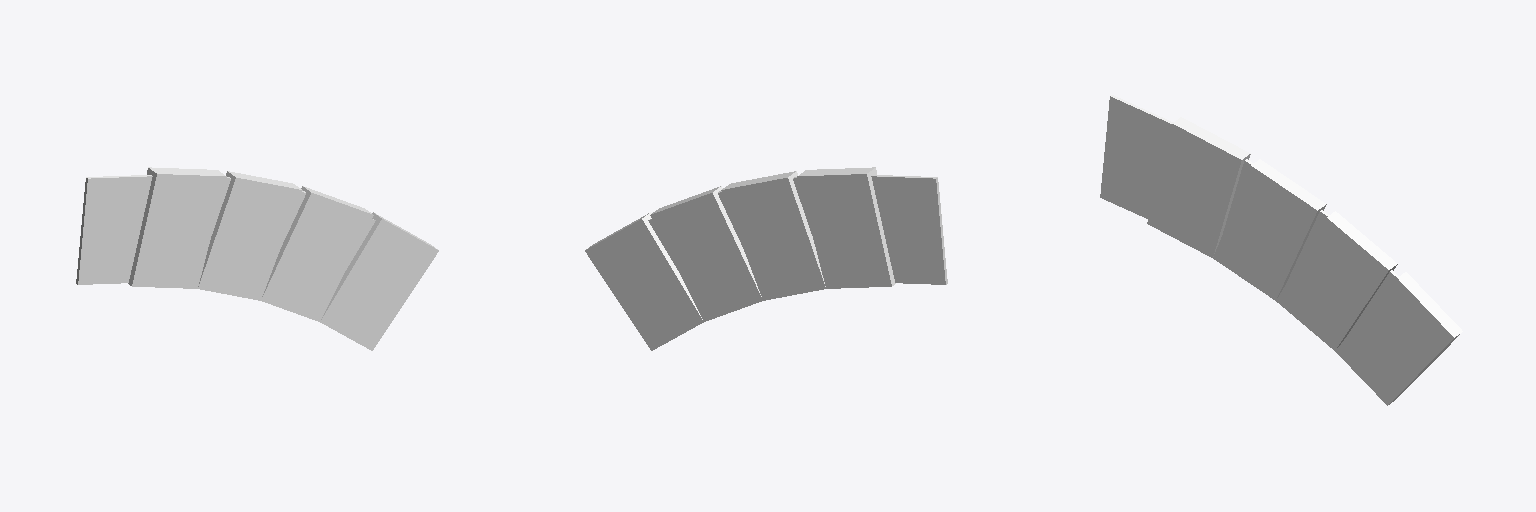
Rendered from generic_facade_segmental_arch_3_right_bottom.obj.
3 views of the same model, side by side, from view 1: azimuth 30°, elevation 25°; view 2: azimuth 150°, elevation 25°; view 3: azimuth 330°, elevation 25° (orthographic).
Parts seen in each view (by area): view 1: arch_3_right, arch_3_right_inner; view 2: arch_3_right, arch_3_right_inner; view 3: arch_3_right, arch_3_right_inner.
Part boxes in pixels (left/top/right/bottom): arch_3_right: left=128, top=167, right=438, bottom=350; arch_3_right_inner: left=76, top=175, right=375, bottom=284; arch_3_right: left=585, top=167, right=895, bottom=350; arch_3_right_inner: left=648, top=175, right=947, bottom=284; arch_3_right: left=1147, top=117, right=1462, bottom=405; arch_3_right_inner: left=1100, top=95, right=1398, bottom=339.
Size of the model in its own units: 1.58 by 1.01 by 0.0688.